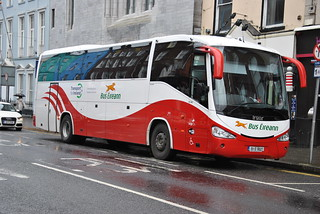bus: (32, 35, 289, 161)
car: (1, 101, 22, 132)
